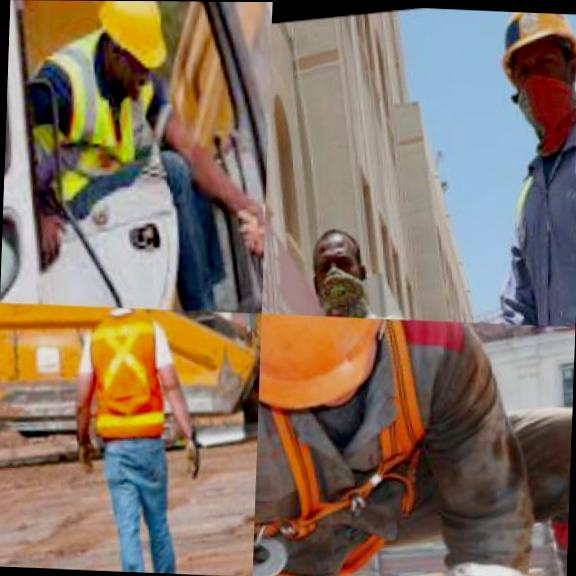safety_vest: (253, 313, 544, 576), (17, 20, 174, 209), (493, 95, 576, 325), (74, 306, 162, 435)
